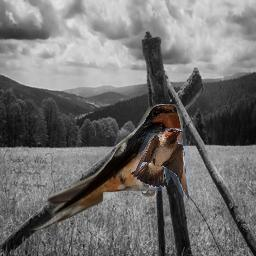Swallow: (29, 104, 183, 230), (131, 128, 190, 201)
